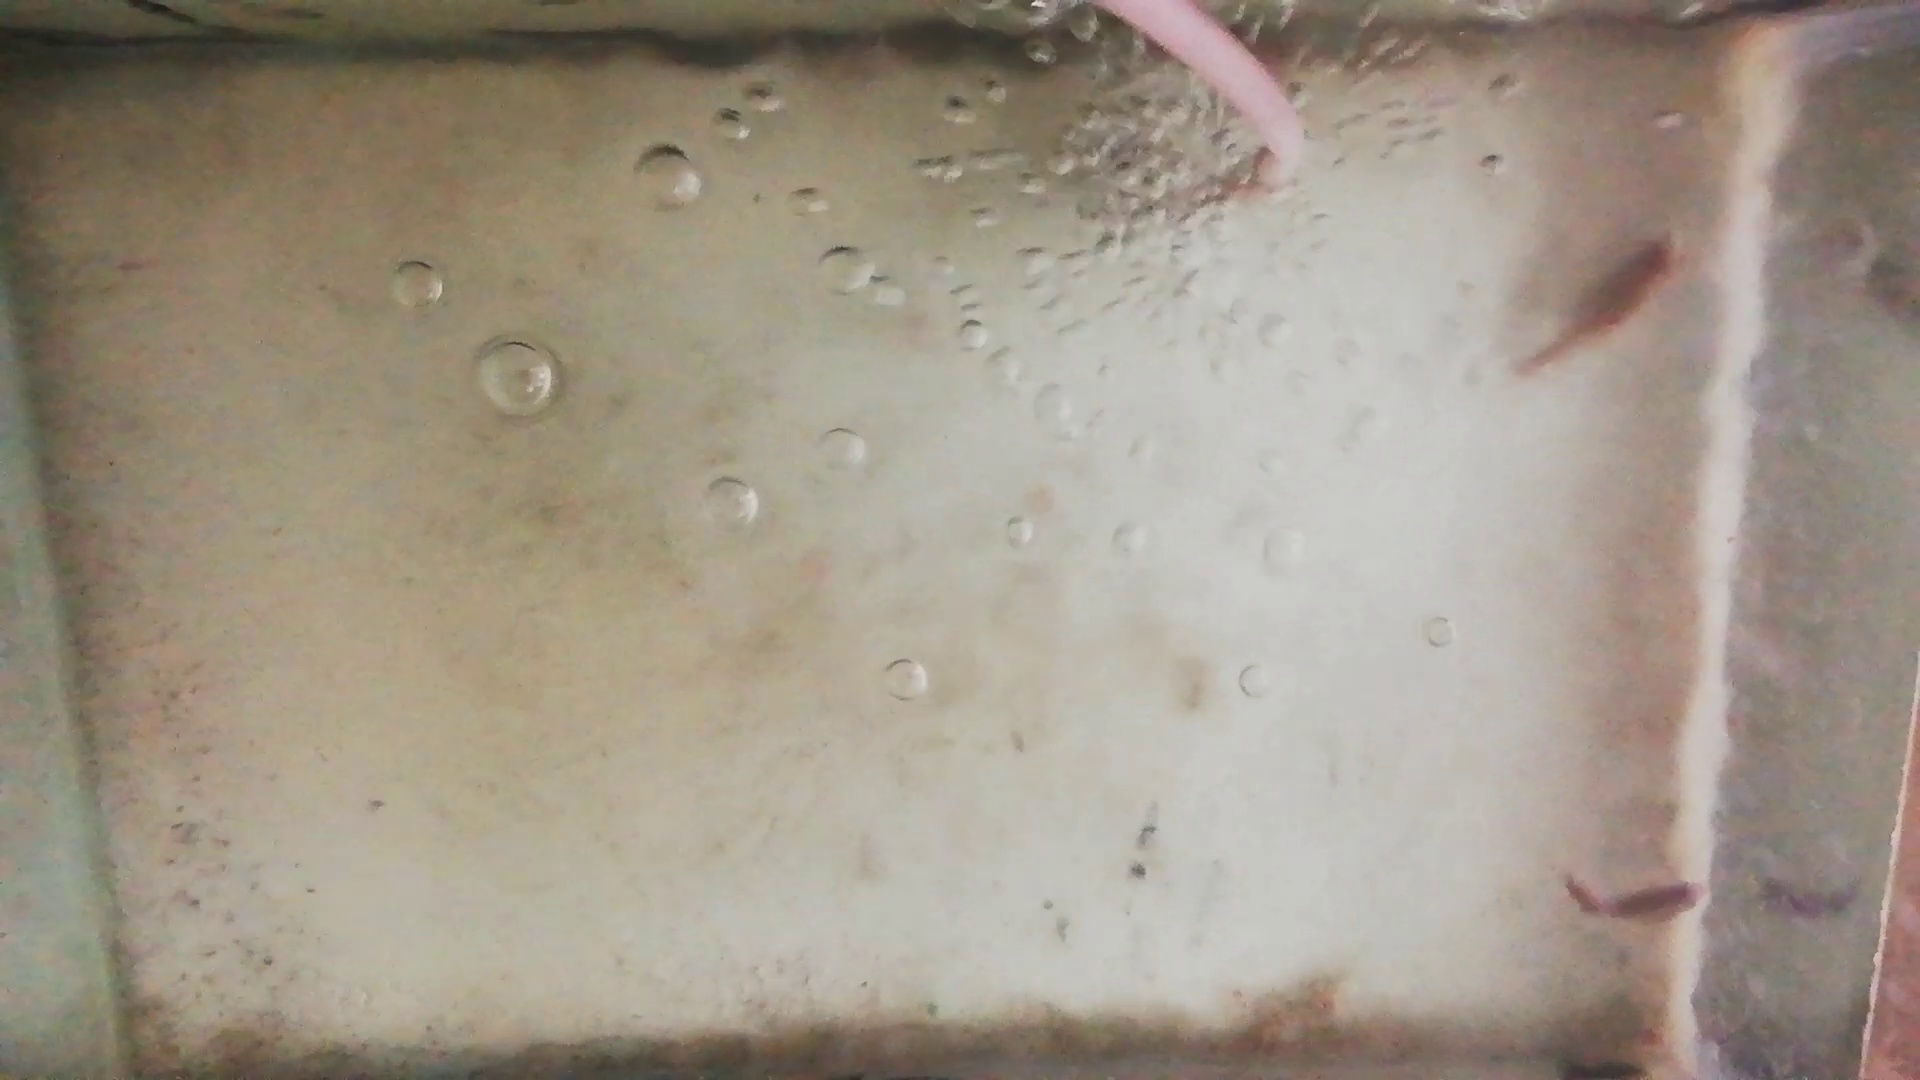fish: (1515, 228, 1685, 378), (1567, 876, 1701, 924)
